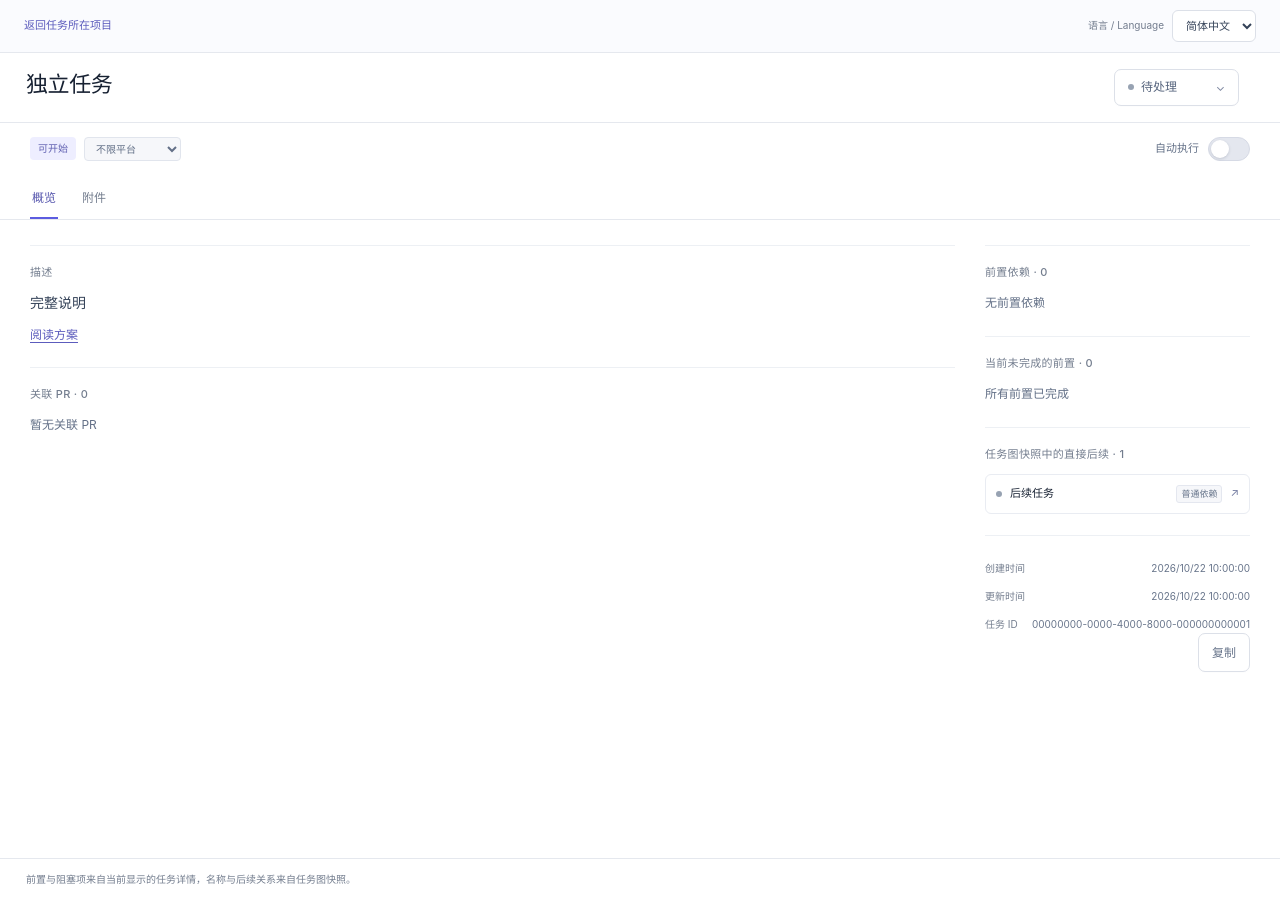
Scenario: standalone full task details › reconciles a standalone status conflict without resubmitting the write
Expected: the heading "独立任务" is shown, [26,71,112,97]
Click the button with class "task-status-trigger" at (1176, 87), box [1114,69,1239,106]
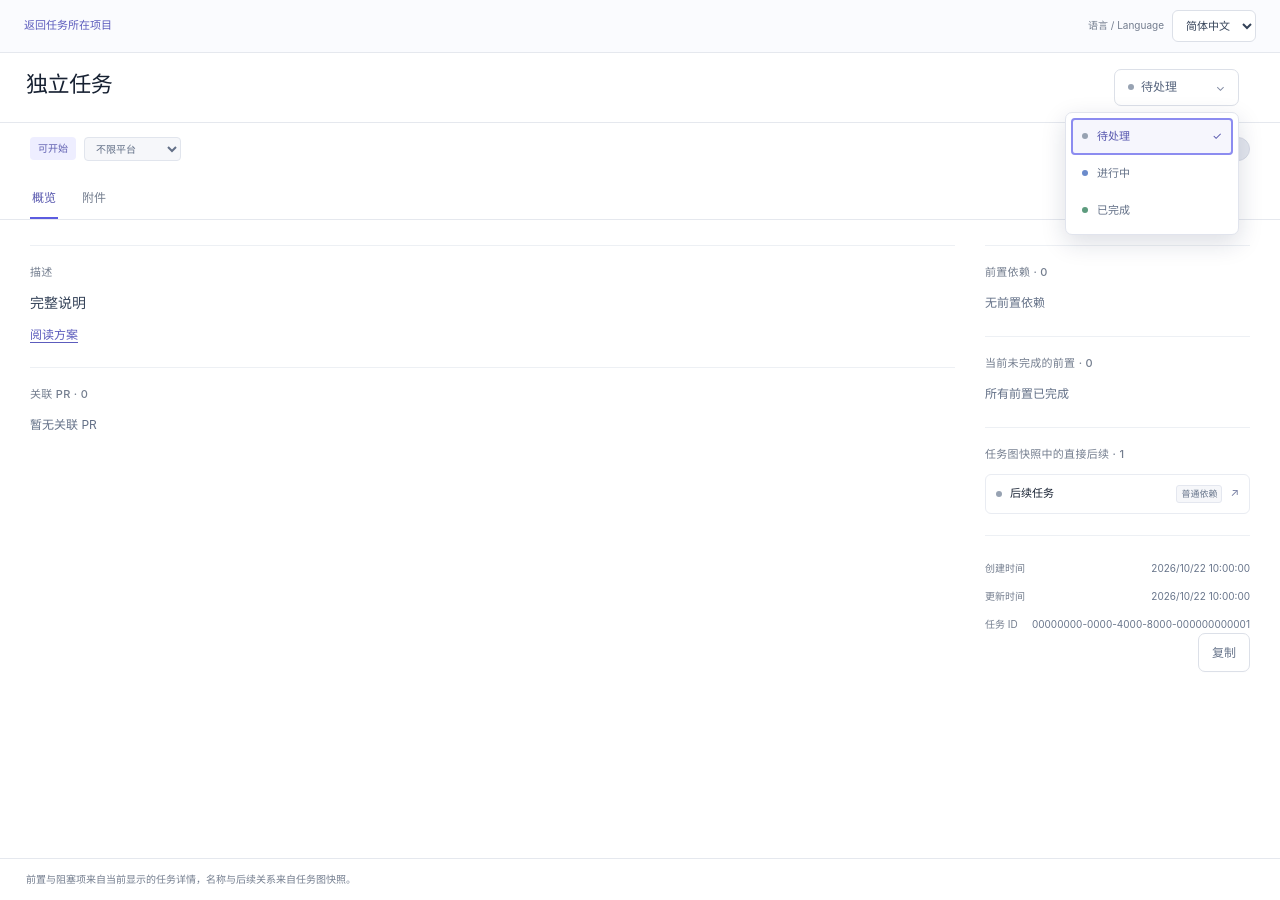
Click the menu item "已完成" at (1152, 210), box [1071,192,1233,229]
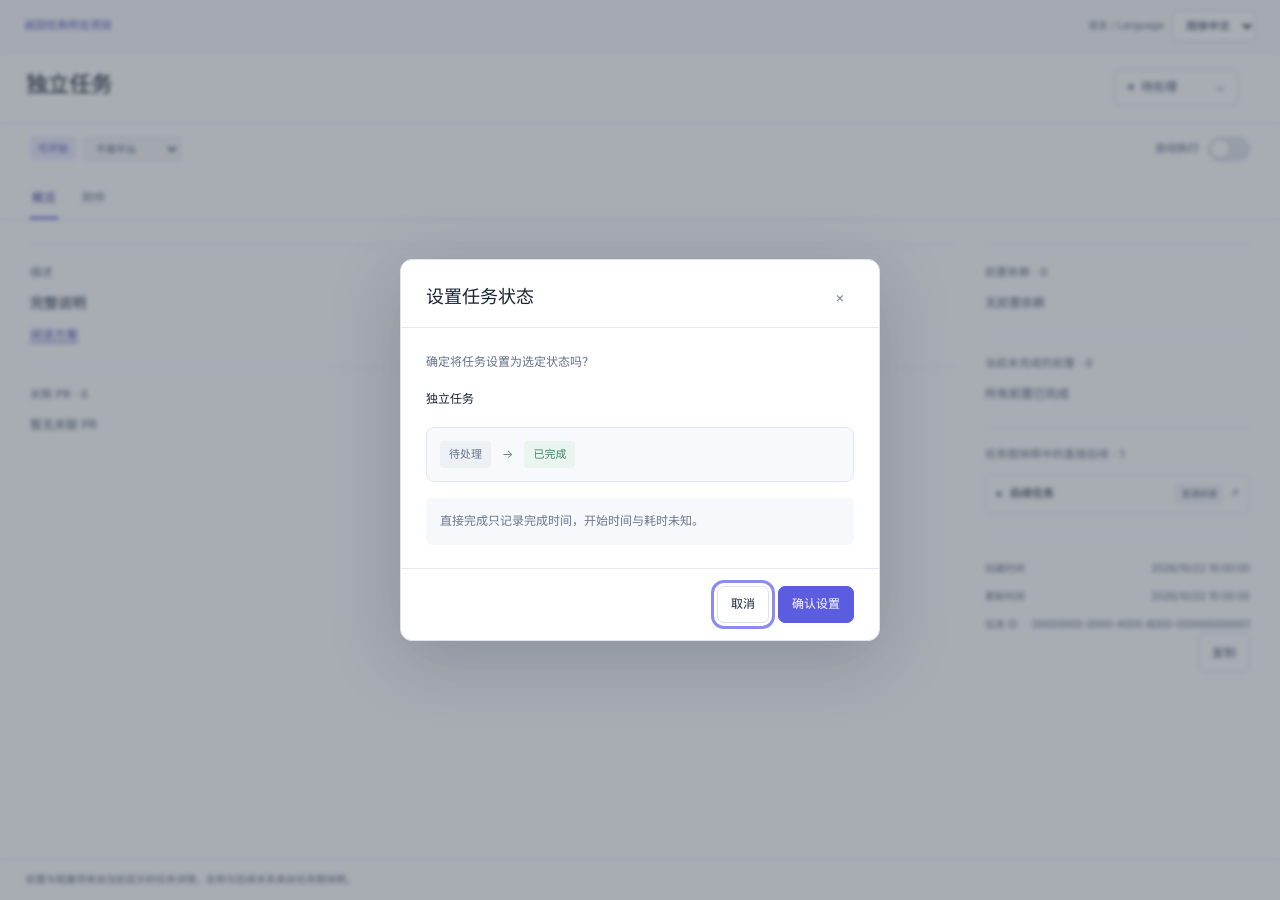
Click the button "确认设置" at (816, 604), box [778,586,854,622]
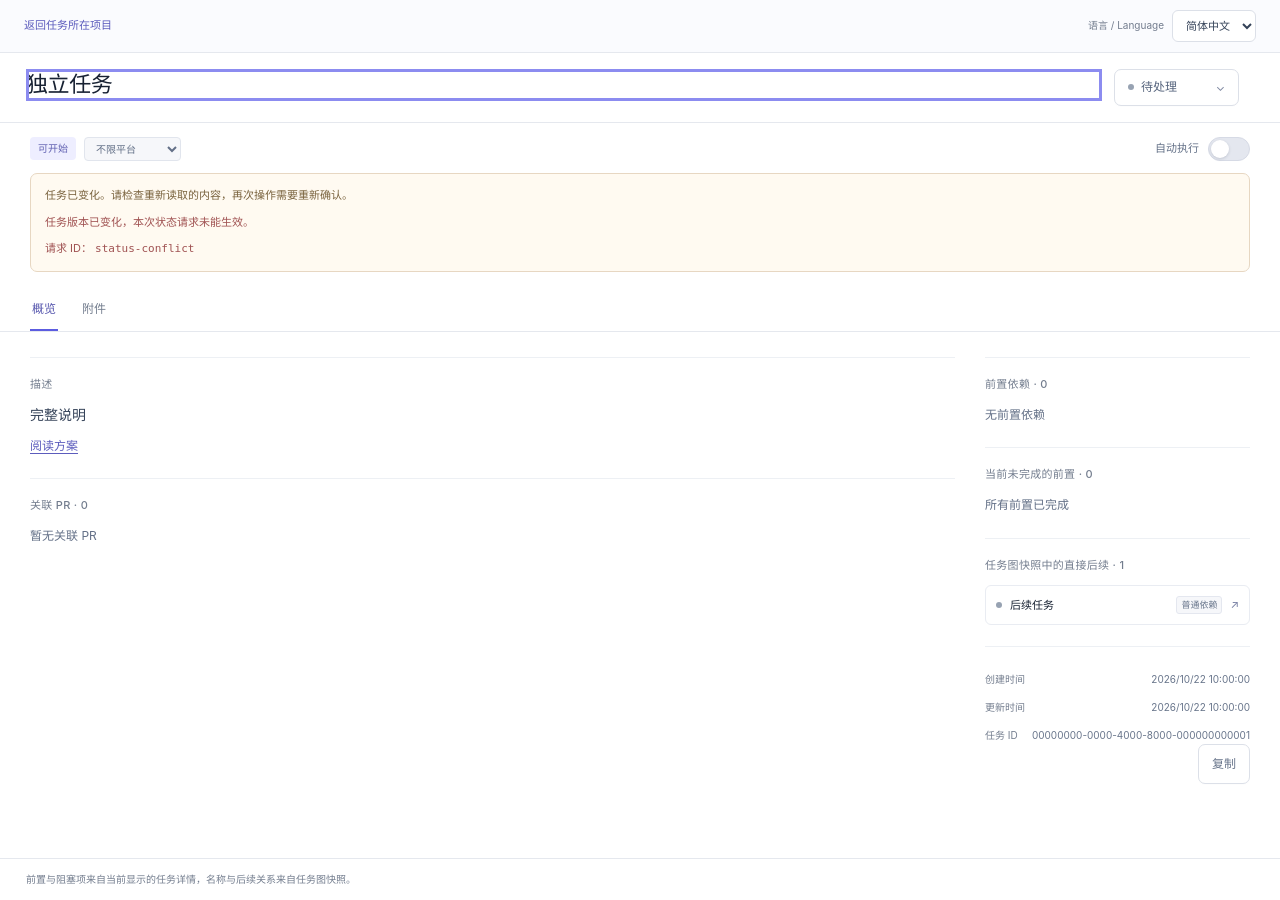
Expected: the button with class "task-status-trigger" is enabled, [1114,69,1239,106]
Expected: the text "任务已变化。请检查重新读取的内容，再次操作需要重新确认。" is shown, [45,188,353,202]
